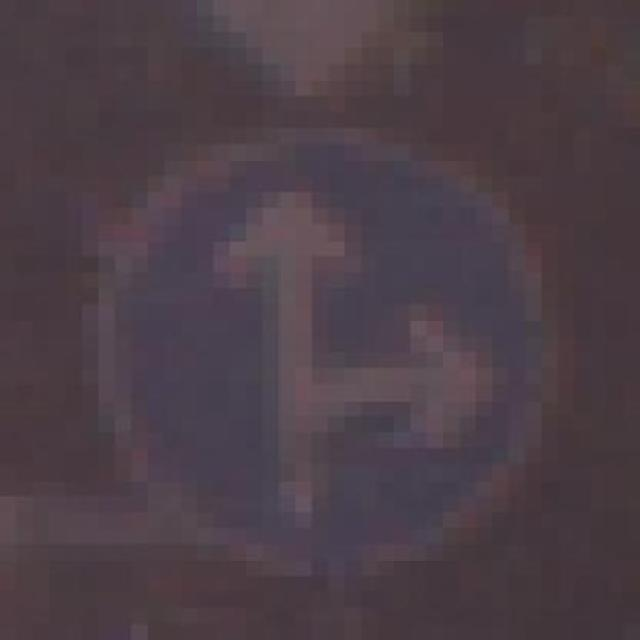Go Straight or Turn Right: (82, 111, 575, 608)
